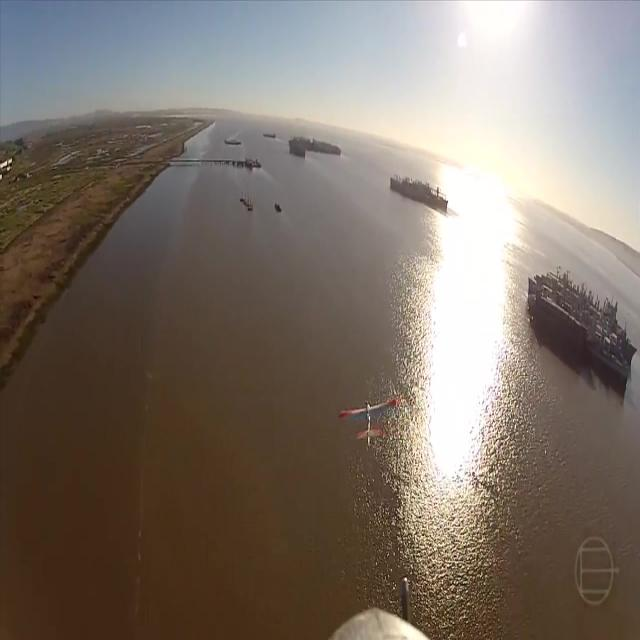iha: (370, 394, 375, 447)
